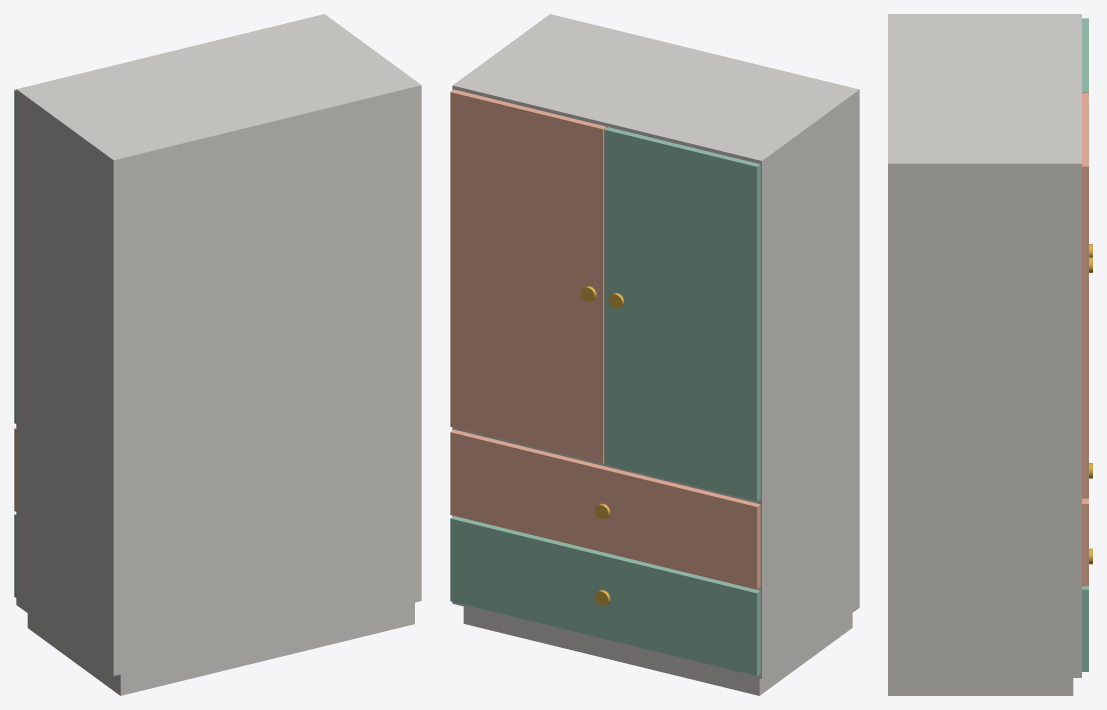
3 views of the same model, side by side, from view 1: azimuth 30°, elevation 25°; view 2: azimuth 150°, elevation 25°; view 3: azimuth 270°, elevation 25° (orthographic).
Parts seen in each view (by area): view 1: carcass, door-left; view 2: carcass, door-left, door-right, knob-door-left; view 3: carcass, door-right, door-left.
Part boxes in pixels (x1,y1,x2,y2): carcass: (16, 14, 421, 695); door-left: (14, 89, 16, 597); carcass: (452, 14, 859, 695); door-left: (450, 127, 760, 675); door-right: (450, 89, 760, 589); knob-door-left: (581, 286, 624, 605); carcass: (888, 14, 1081, 695); door-right: (1082, 92, 1088, 586); door-left: (1082, 18, 1088, 671).
Size of the model in its own units: 0.9 by 1.5 by 0.52.
